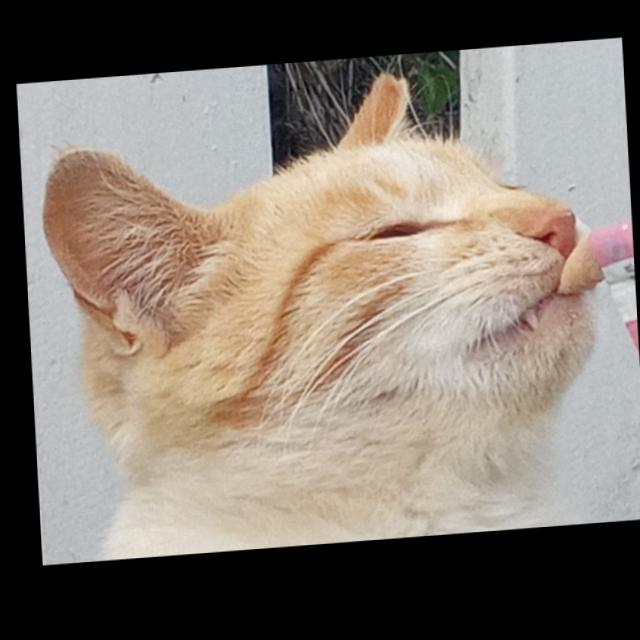animals: (33, 53, 620, 512)
